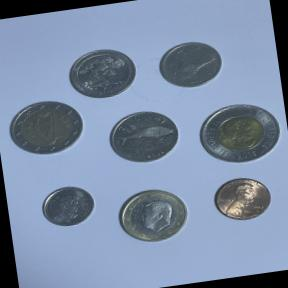1 Euro-B: (110, 179, 202, 252)
2 Euro-B: (3, 92, 88, 162)
Canada-10cent-B: (34, 176, 102, 234)
Canada-2Dollar-B: (191, 94, 288, 172)
Croatia-2Kune-B: (102, 102, 187, 170)
US-1cent-B: (204, 168, 278, 230)
US-25cent-B: (62, 41, 141, 104)
